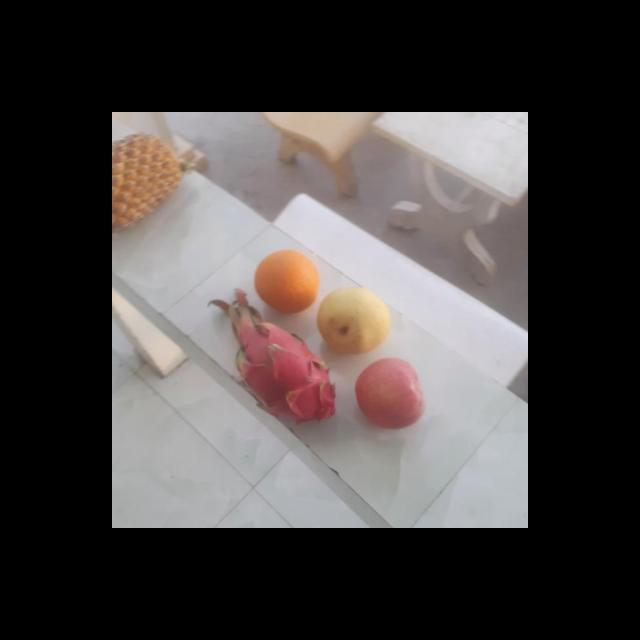apple: (354, 358, 431, 430)
orange: (250, 249, 322, 311)
pear: (314, 286, 394, 356)
pitaya: (238, 320, 344, 422)
